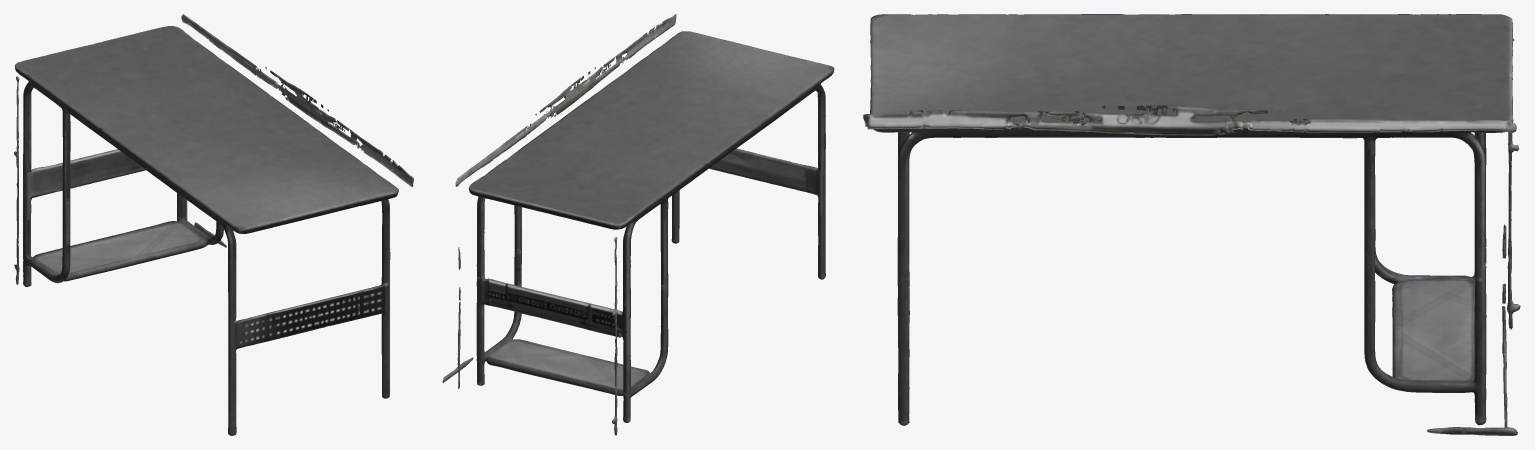
The picture shows the model from 3 angles, left to right: view 1: azimuth 30°, elevation 25°; view 2: azimuth 150°, elevation 25°; view 3: azimuth 270°, elevation 25°; orthographic projection. The views are drawn at different scales.
Size of the model in its own units: 0.9318 by 1.15 by 2.02.
Materials: 1 (1 with a texture image).
